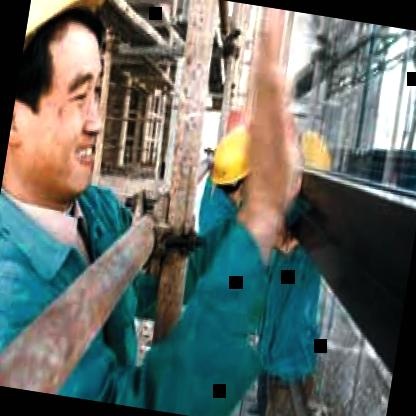helmet: (0, 0, 140, 217), (202, 118, 260, 208)
